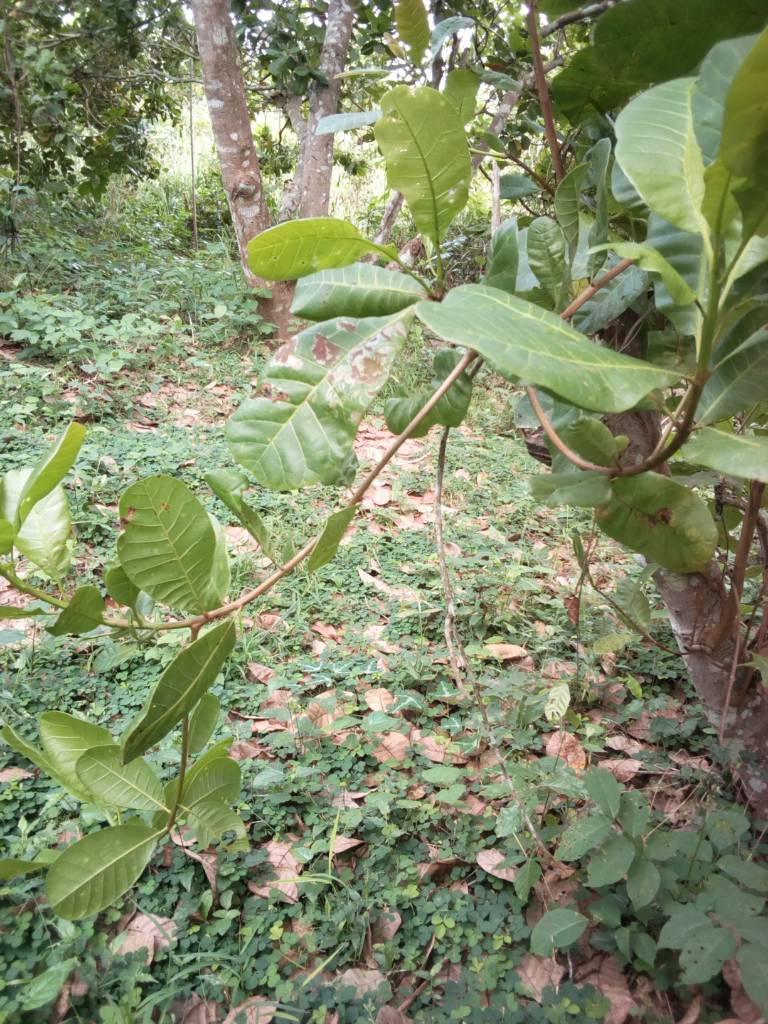Bactériose: (221, 308, 411, 492), (113, 469, 213, 614), (602, 466, 716, 578)
